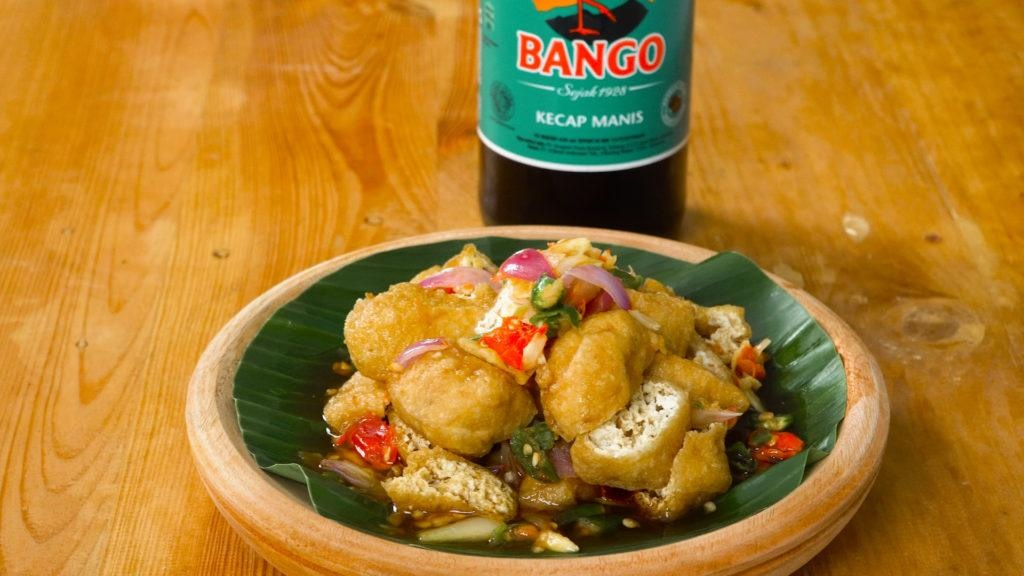tahu_gejrot: (317, 237, 805, 554)
